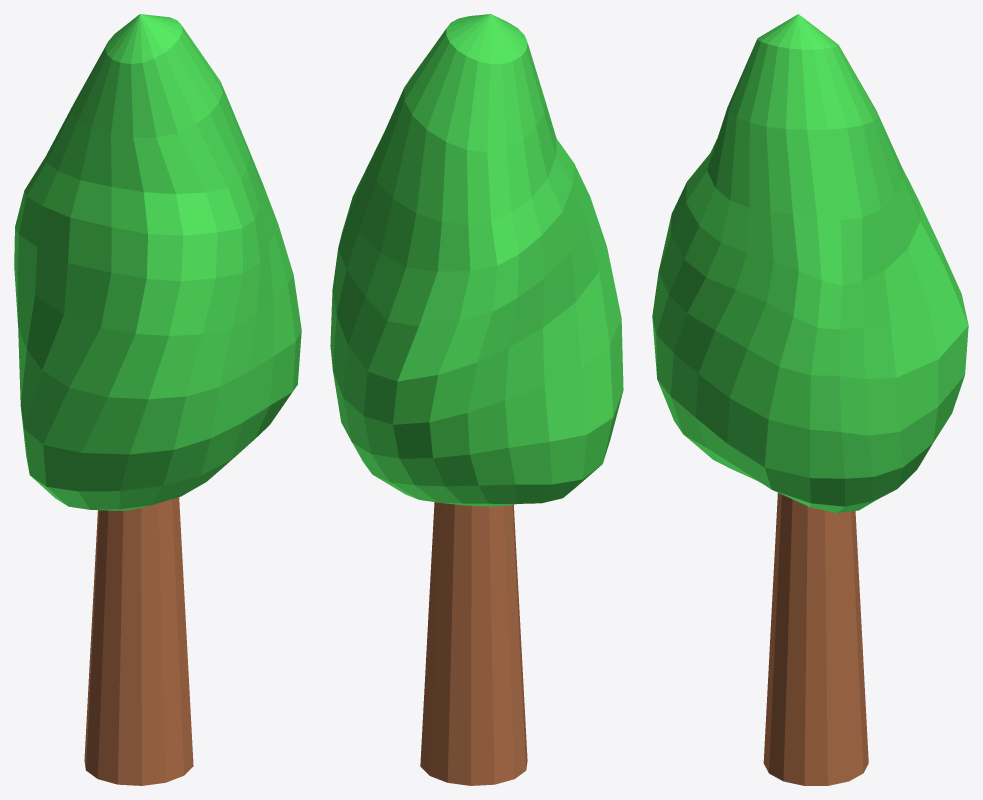
File: tree.fbx
3 renders of one model, left to right at view 1: azimuth 30°, elevation 25°; view 2: azimuth 150°, elevation 25°; view 3: azimuth 270°, elevation 25°, orthographic.
Parts seen in each view (by area): view 1: Cylinder; view 2: Cylinder; view 3: Cylinder.
Part boxes in pixels (x1=…): Cylinder: x1=14, y1=14, x2=301, y2=785; Cylinder: x1=330, y1=14, x2=623, y2=785; Cylinder: x1=652, y1=14, x2=968, y2=785.
Bounding box in the file's own units: 494 × 1375 × 529.
